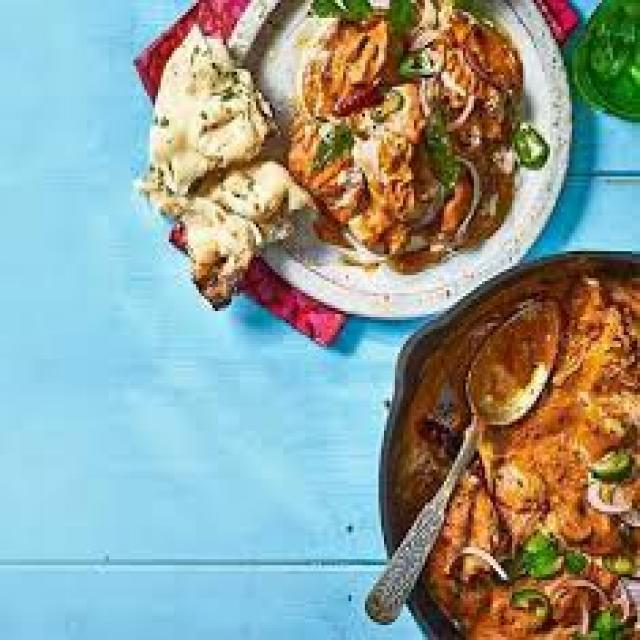Butter Chicken: (397, 275, 640, 640), (292, 1, 528, 268)
